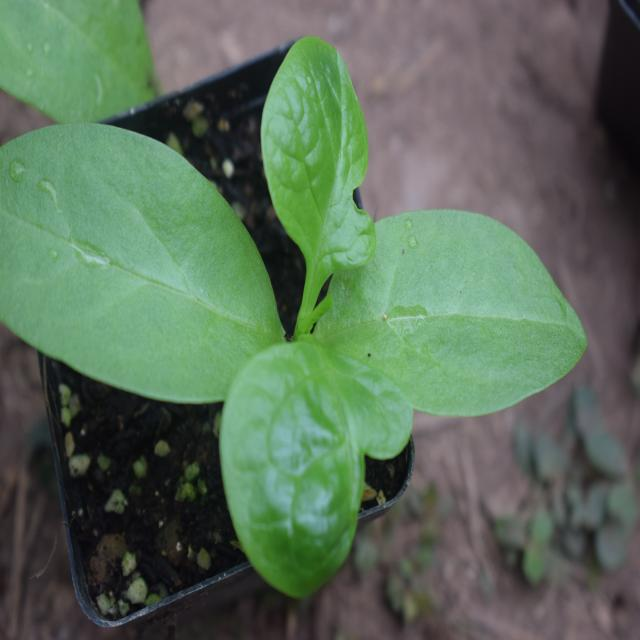Ceylon spinach: (11, 55, 520, 542)
